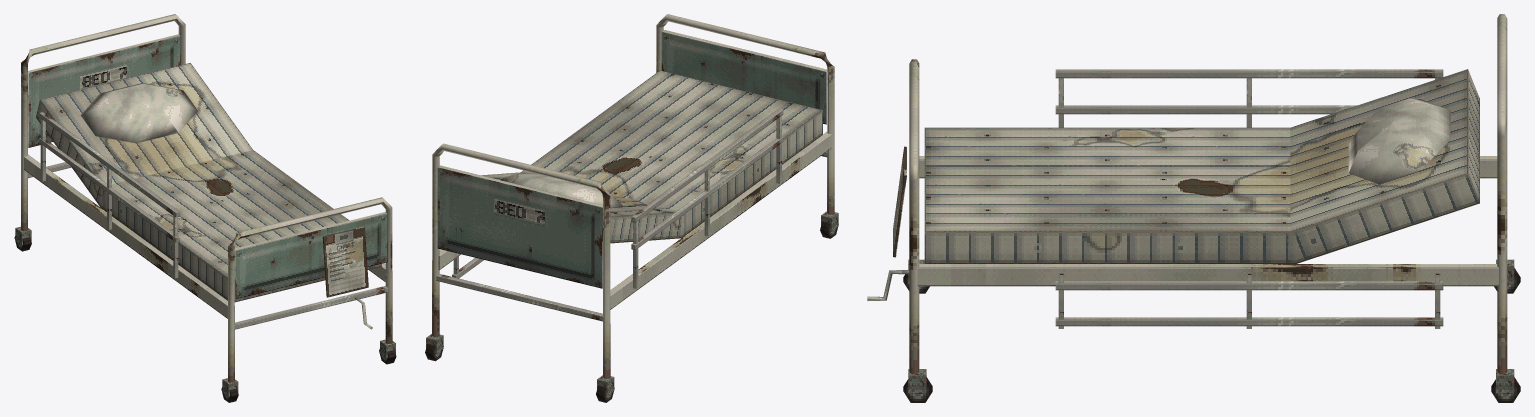
Rendered from hospital_bed.glb.
The picture shows the model from 3 angles, left to right: view 1: azimuth 30°, elevation 25°; view 2: azimuth 150°, elevation 25°; view 3: azimuth 270°, elevation 25°; orthographic projection. The views are drawn at different scales.
Visible parts, largest first — view 1: hospital_bed; view 2: hospital_bed; view 3: hospital_bed.
Part boxes in pixels (x1,y1,x2,y2): hospital_bed: (14, 14, 396, 402); hospital_bed: (425, 14, 838, 402); hospital_bed: (867, 14, 1520, 402).
Size of the model in its own units: 0.944 by 1.06 by 2.22.
Materials: 1 (1 with a texture image).
